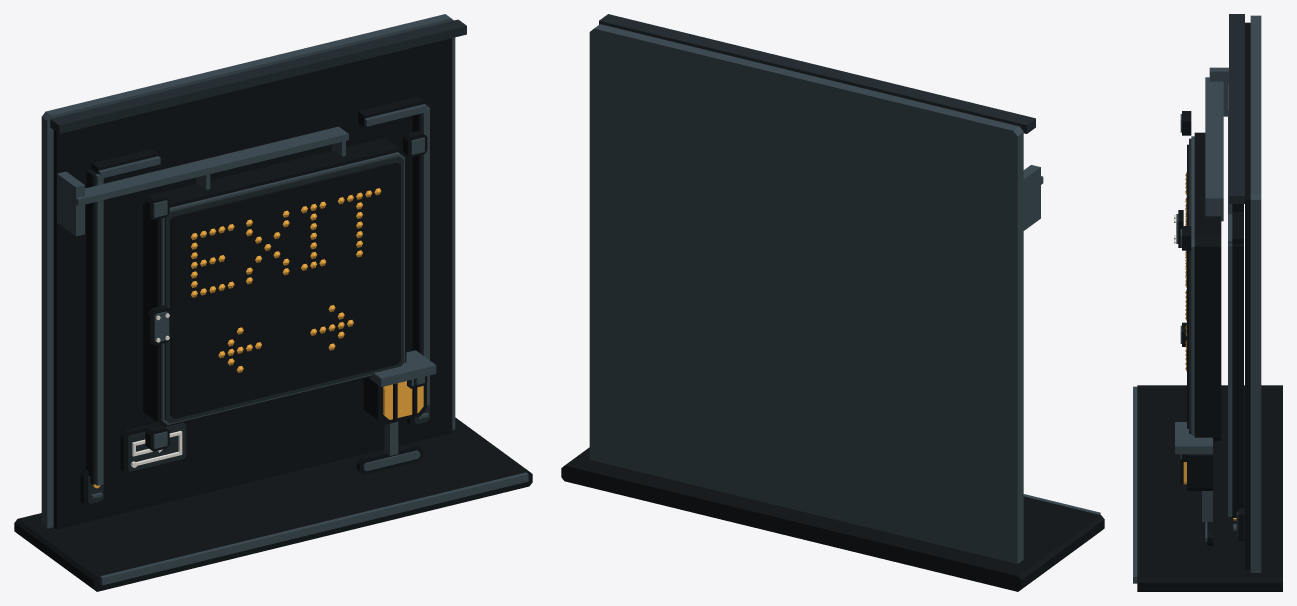
The picture shows the model from 3 angles, left to right: view 1: azimuth 30°, elevation 25°; view 2: azimuth 150°, elevation 25°; view 3: azimuth 270°, elevation 25°; orthographic projection. The views are drawn at different scales.
Parts seen in each view (by area): view 1: Exit Liquidity sign; view 2: Exit Liquidity sign; view 3: Exit Liquidity sign.
Boxes of the visible parts, x1,y1,x2,y2 form: Exit Liquidity sign: [14, 14, 532, 591]; Exit Liquidity sign: [561, 14, 1104, 591]; Exit Liquidity sign: [1133, 14, 1282, 591].
Size of the model in its own units: 1.08 by 1 by 0.3475.
